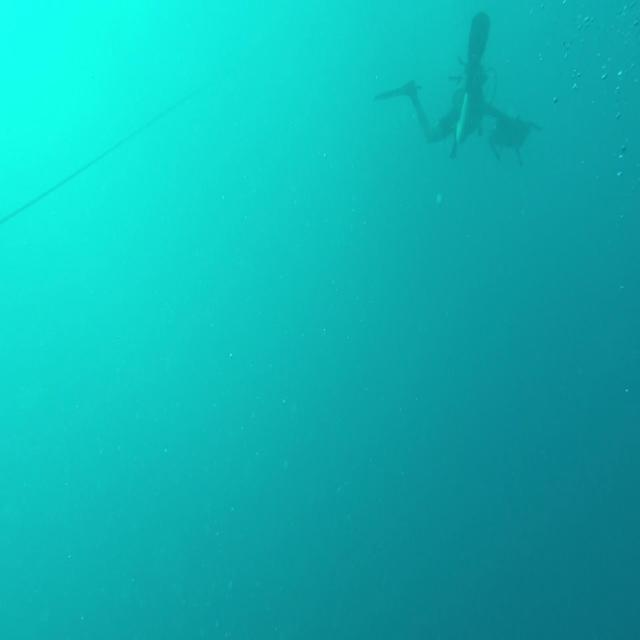human: (383, 10, 526, 165)
